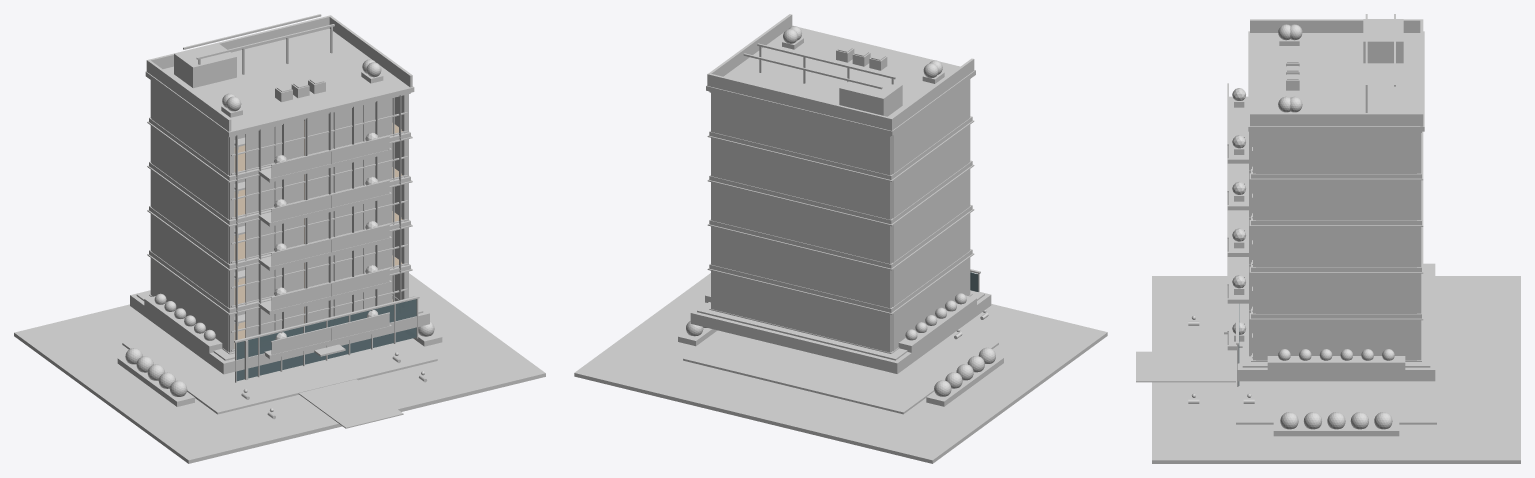
Rendered from byom-residence-realistic.glb.
3 views of the same model, side by side, from view 1: azimuth 30°, elevation 25°; view 2: azimuth 150°, elevation 25°; view 3: azimuth 270°, elevation 25° (orthographic). The views are drawn at different scales.
Visible parts, largest first — view 1: Site_Roof_Landscape_stone, Site_Roof_Landscape_concrete, Site_Roof_Landscape_dark_concrete, Floor_05_glass, Floor_02_glass, Floor_03_glass, Floor_04_glass, Floor_01_glass, Site_Roof_Landscape_glass_dark, Floor_05_white, Floor_02_white, Floor_03_white (+22 smaller); view 2: Site_Roof_Landscape_stone, Site_Roof_Landscape_dark_concrete, Site_Roof_Landscape_concrete, Floor_05_white, Floor_04_white, Floor_02_white, Floor_03_white, Floor_01_white, Site_Roof_Landscape_green2, Floor_05_concrete, Floor_02_concrete, Floor_03_concrete (+7 smaller); view 3: Site_Roof_Landscape_stone, Site_Roof_Landscape_concrete, Site_Roof_Landscape_dark_concrete, Floor_05_white, Floor_02_white, Floor_04_white, Floor_03_white, Floor_01_white, Floor_05_concrete, Site_Roof_Landscape_green2, Floor_04_concrete, Floor_03_concrete (+8 smaller).
Boxes of the visible parts, bbox=[...] form: Site_Roof_Landscape_stone: bbox=[14, 273, 545, 463]; Site_Roof_Landscape_concrete: bbox=[145, 15, 419, 342]; Site_Roof_Landscape_dark_concrete: bbox=[117, 43, 442, 414]; Floor_05_glass: bbox=[247, 98, 392, 177]; Floor_02_glass: bbox=[247, 231, 392, 310]; Floor_03_glass: bbox=[247, 187, 392, 266]; Floor_04_glass: bbox=[247, 143, 392, 221]; Floor_01_glass: bbox=[247, 275, 392, 354]; Site_Roof_Landscape_glass_dark: bbox=[236, 299, 416, 381]; Floor_05_white: bbox=[150, 80, 401, 174]; Floor_02_white: bbox=[150, 214, 401, 307]; Floor_03_white: bbox=[150, 170, 401, 263]; Site_Roof_Landscape_stone: bbox=[574, 273, 1107, 463]; Site_Roof_Landscape_dark_concrete: bbox=[678, 74, 1003, 414]; Site_Roof_Landscape_concrete: bbox=[706, 14, 980, 273]; Floor_05_white: bbox=[711, 80, 969, 175]; Floor_04_white: bbox=[711, 125, 969, 219]; Floor_02_white: bbox=[711, 214, 969, 308]; Floor_03_white: bbox=[711, 169, 969, 263]; Floor_01_white: bbox=[711, 258, 969, 352]; Site_Roof_Landscape_green2: bbox=[686, 293, 995, 396]; Floor_05_concrete: bbox=[709, 79, 972, 179]; Floor_02_concrete: bbox=[709, 213, 972, 312]; Floor_03_concrete: bbox=[709, 169, 972, 268]; Site_Roof_Landscape_stone: bbox=[1136, 264, 1520, 463]; Site_Roof_Landscape_concrete: bbox=[1236, 19, 1424, 344]; Site_Roof_Landscape_dark_concrete: bbox=[1236, 19, 1436, 436]; Floor_05_white: bbox=[1256, 133, 1421, 173]; Floor_02_white: bbox=[1256, 273, 1421, 313]; Floor_04_white: bbox=[1256, 180, 1421, 220]; Floor_03_white: bbox=[1256, 227, 1421, 267]; Floor_01_white: bbox=[1256, 320, 1421, 360]; Floor_05_concrete: bbox=[1227, 96, 1421, 178]; Site_Roof_Landscape_green2: bbox=[1278, 349, 1394, 429]; Floor_04_concrete: bbox=[1227, 163, 1421, 225]; Floor_03_concrete: bbox=[1227, 210, 1421, 271].
Size of the model in its own units: 26 by 21.21 by 22.95.
